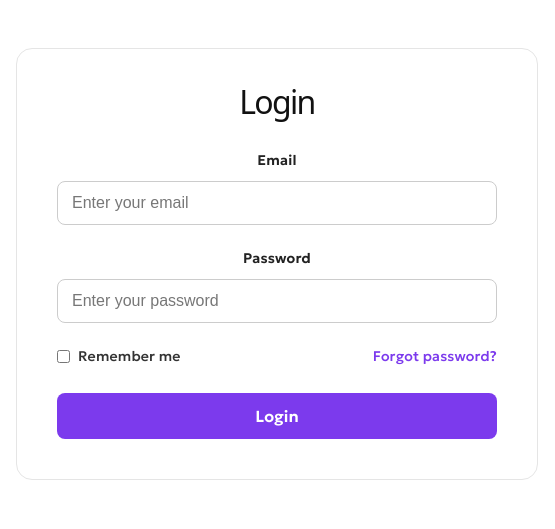
Scenario: Login › shows validation errors for invalid values
The image size is (555, 529).
Step 1. Type "wrong-email" into the field labelled "Email" → (277, 203), box [57,181,497,225]
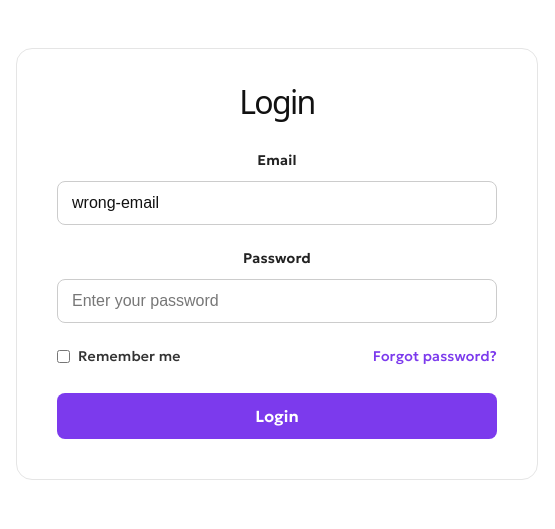
Step 2. Type "123" into the password field labelled "Password" → (277, 301), box [57,279,497,323]
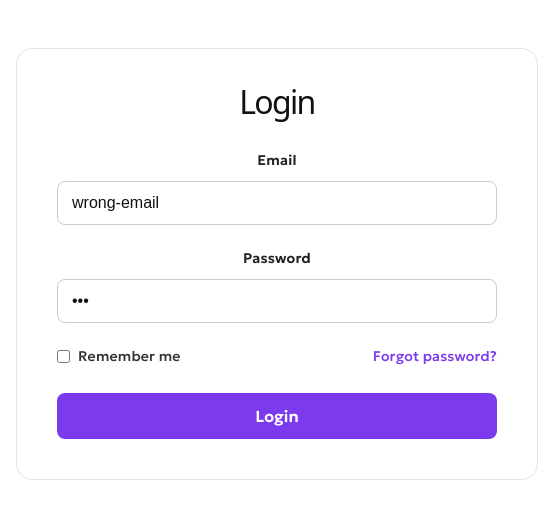
Step 3. Click the button "Login" → (277, 416), box [57,393,497,439]
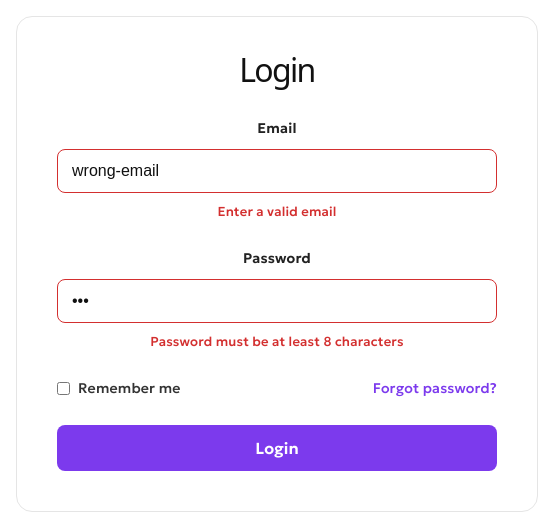
Expected: the text "Enter a valid email" is shown, [217,203,337,220]
Expected: the text "Password must be at least 8 characters" is shown, [150,333,404,350]
